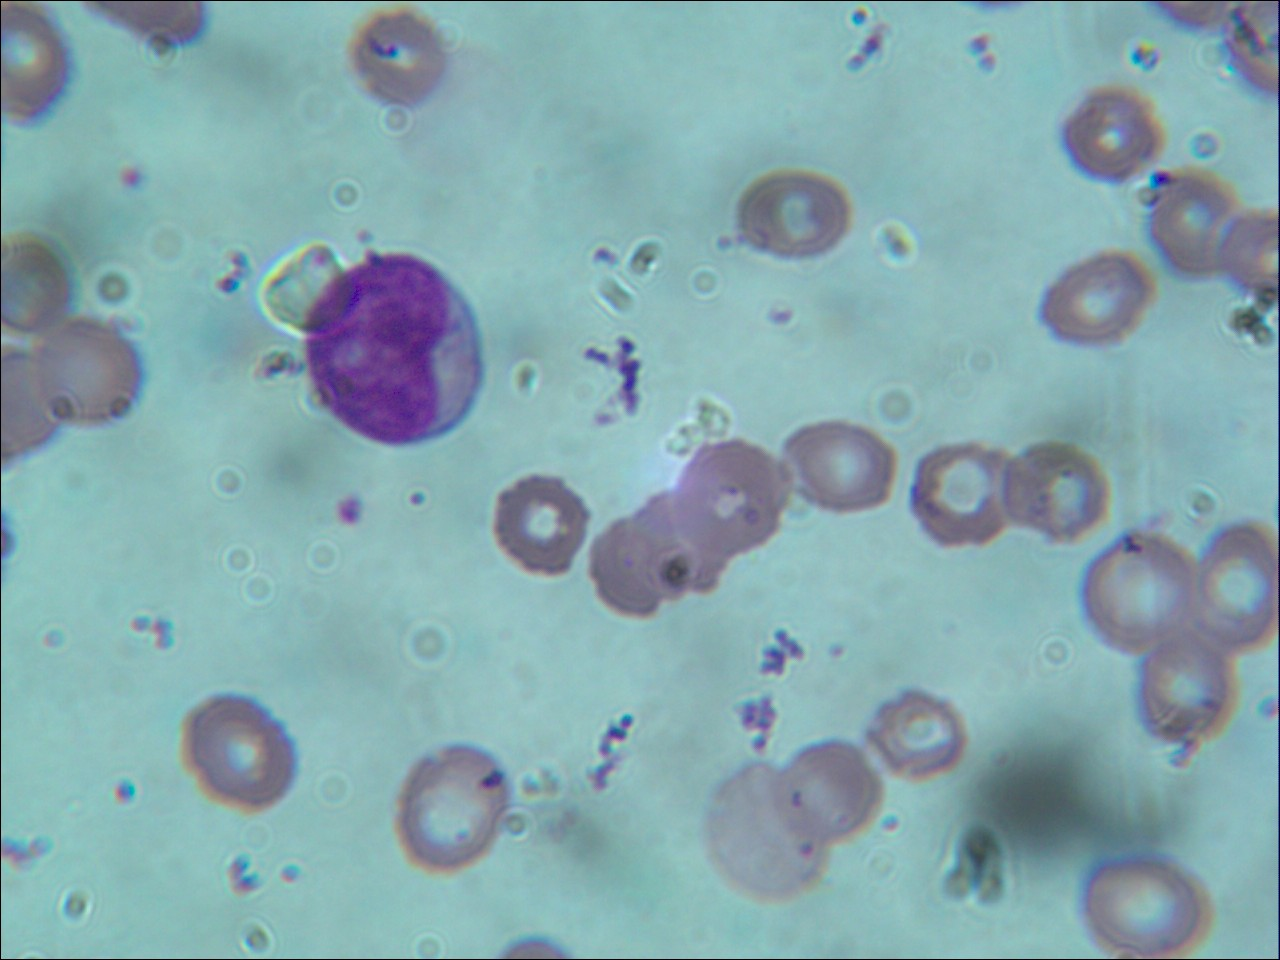Eritrosit: (377, 743, 514, 880), (690, 767, 830, 902), (177, 694, 305, 818), (1074, 855, 1214, 960), (673, 440, 789, 556), (902, 436, 1015, 553), (1078, 536, 1193, 649), (28, 322, 146, 431), (998, 434, 1112, 546), (1034, 252, 1156, 353), (1192, 512, 1280, 650), (774, 417, 895, 517), (1137, 627, 1237, 746), (1052, 86, 1171, 179), (481, 472, 586, 577), (630, 492, 736, 593), (781, 740, 884, 843), (346, 8, 447, 112), (737, 169, 853, 259), (865, 687, 971, 783), (1, 1, 77, 127), (1150, 168, 1231, 280), (1, 237, 84, 343), (586, 521, 675, 618), (1206, 205, 1280, 293)
Limfoblast: (299, 250, 486, 450)
Platelet: (102, 765, 143, 811), (330, 496, 371, 534), (581, 242, 621, 277), (1111, 525, 1149, 562), (271, 859, 303, 899), (471, 761, 502, 800), (1142, 161, 1181, 192), (821, 633, 856, 667), (1117, 34, 1150, 68), (350, 219, 383, 252), (396, 486, 433, 514), (1256, 684, 1280, 727), (878, 806, 902, 843), (965, 25, 993, 53), (839, 1, 868, 28), (974, 46, 1000, 77), (118, 161, 145, 190), (715, 222, 737, 253)
